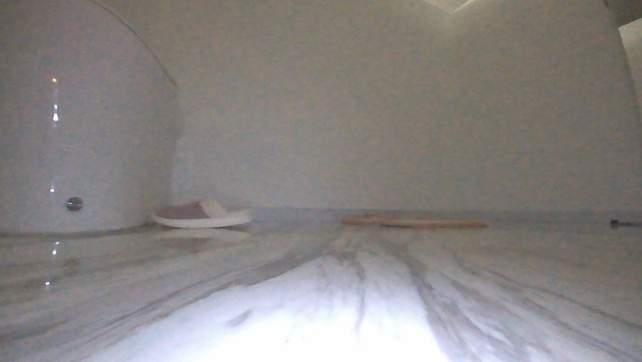slipper: (139, 192, 282, 230)
toilet: (0, 1, 245, 237)
